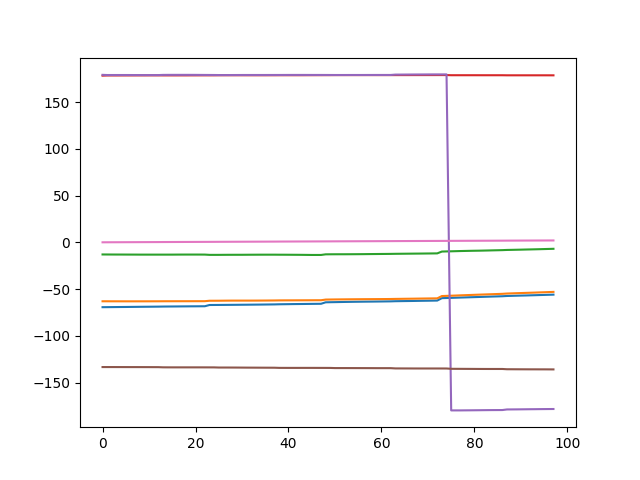Too_Slow_Down: (5, 1, 640, 480)
